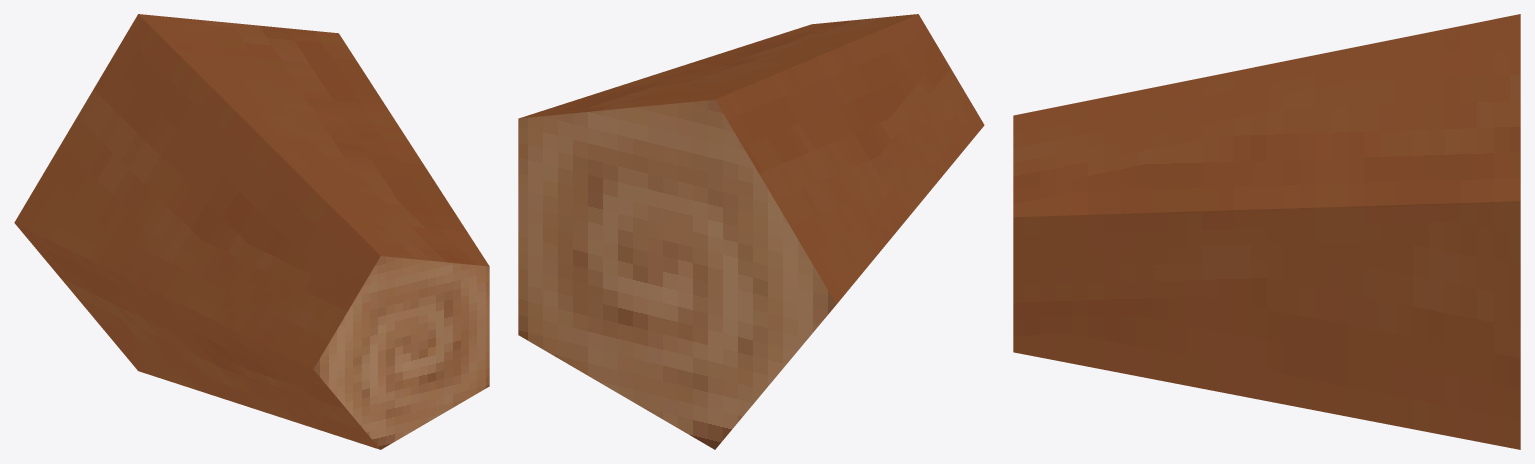
File: SM_AP_Tree_Stump_1.glb
The picture shows the model from 3 angles, left to right: view 1: azimuth 30°, elevation 25°; view 2: azimuth 150°, elevation 25°; view 3: azimuth 270°, elevation 25°; orthographic projection. The views are drawn at different scales.
Parts seen in each view (by area): view 1: SM_AP_Tree_Stump_1; view 2: SM_AP_Tree_Stump_1; view 3: SM_AP_Tree_Stump_1.
Part boxes in pixels (x1=…): SM_AP_Tree_Stump_1: x1=14, y1=14, x2=489, y2=449; SM_AP_Tree_Stump_1: x1=518, y1=14, x2=984, y2=449; SM_AP_Tree_Stump_1: x1=1013, y1=14, x2=1520, y2=449.
Bounding box in the file's own units: 3.33 × 3.5 × 4.
1 material, 1 textured.
